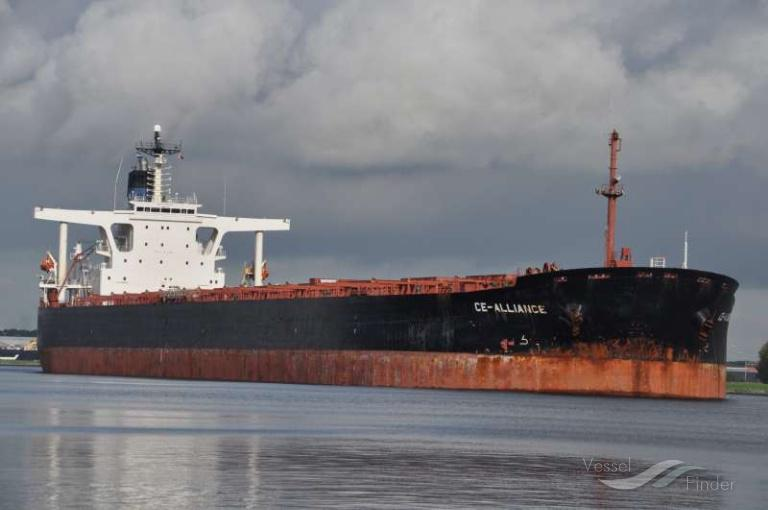OCR: (471, 294, 553, 322)
